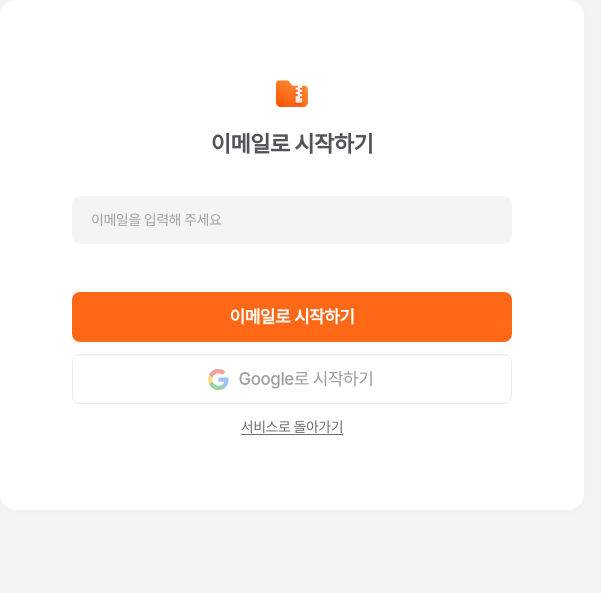
AuthEntryPage › returns to email entry when the readonly account email is clicked
Type "member@example.com" into the field labelled "이메일" at (292, 220), box [91,209,493,231]
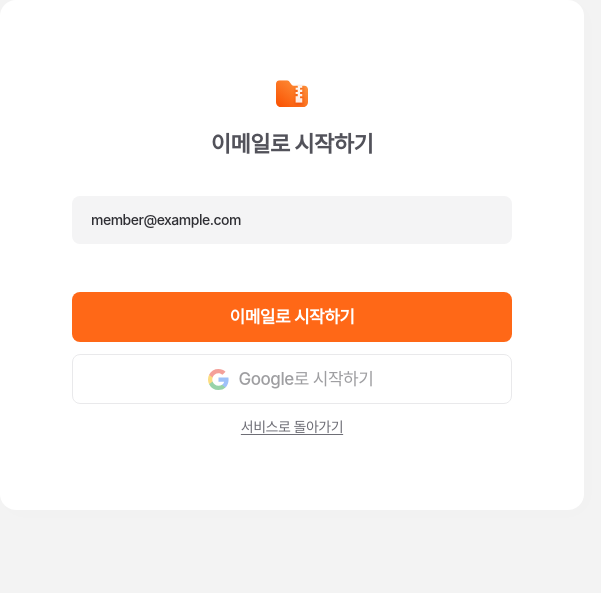
Click the button "이메일로 시작하기" at (292, 317), box [72,292,512,342]
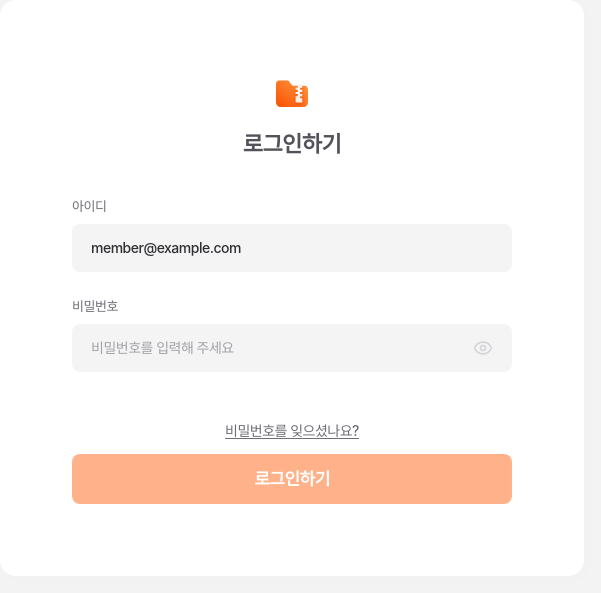
Click the field showing "member@example.com" at (292, 248), box [91,237,493,259]
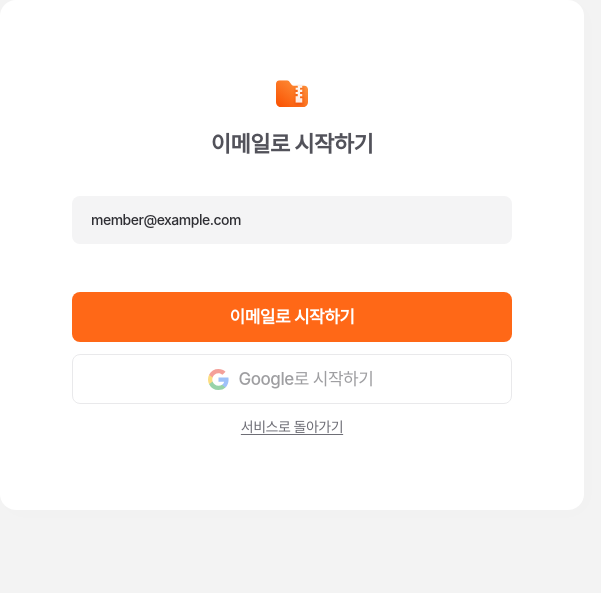
Expected: the heading "이메일로 시작하기" is shown, [211,128,373,160]
Expected: the field named "이메일" holds "member@example.com", [91,209,493,231]
